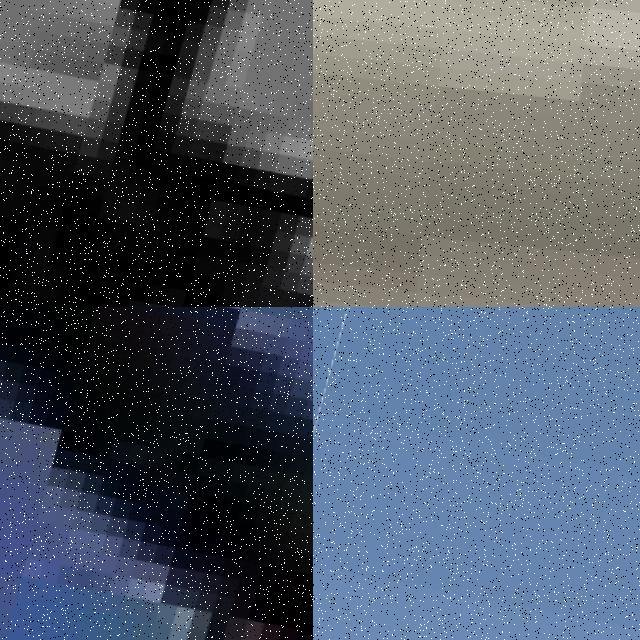drone: (313, 307, 640, 640), (0, 307, 313, 640), (0, 0, 313, 307)
